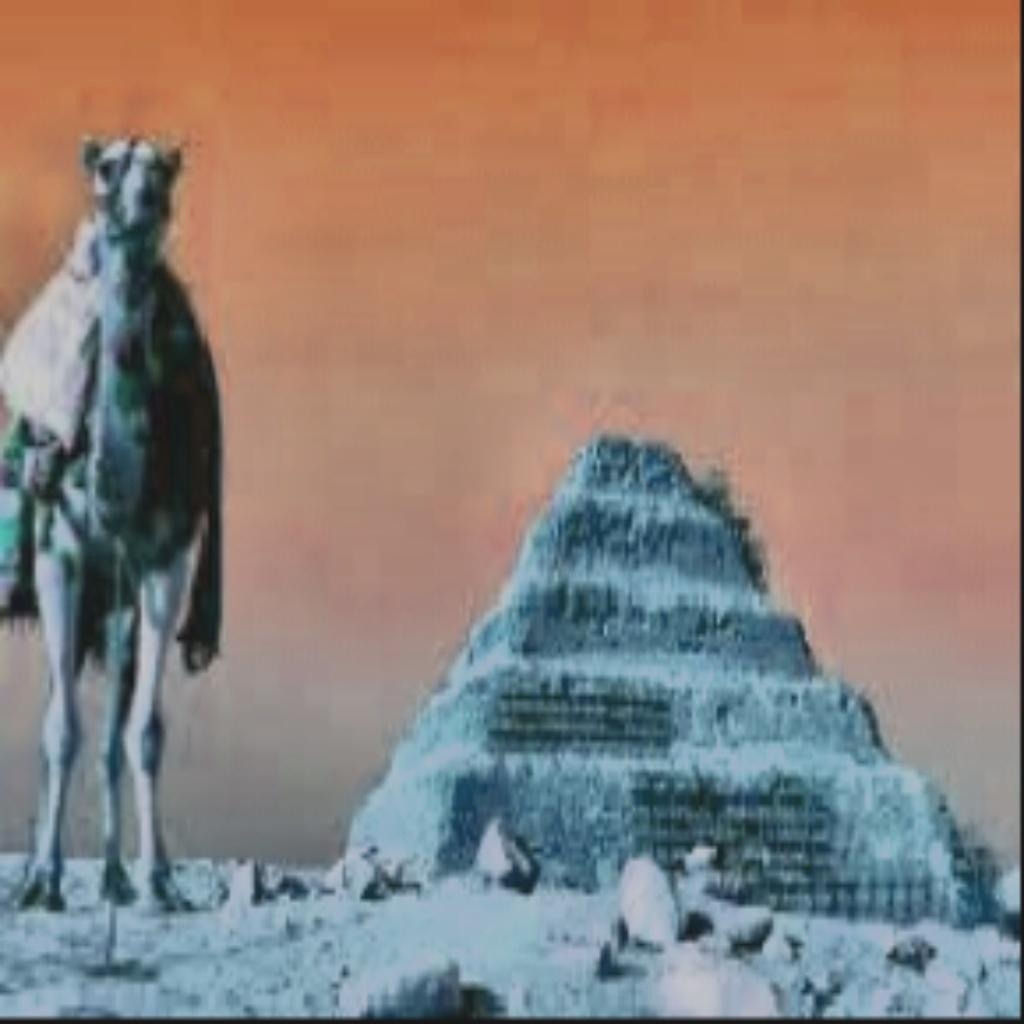Pyramid of Djoser: (339, 418, 999, 924)
